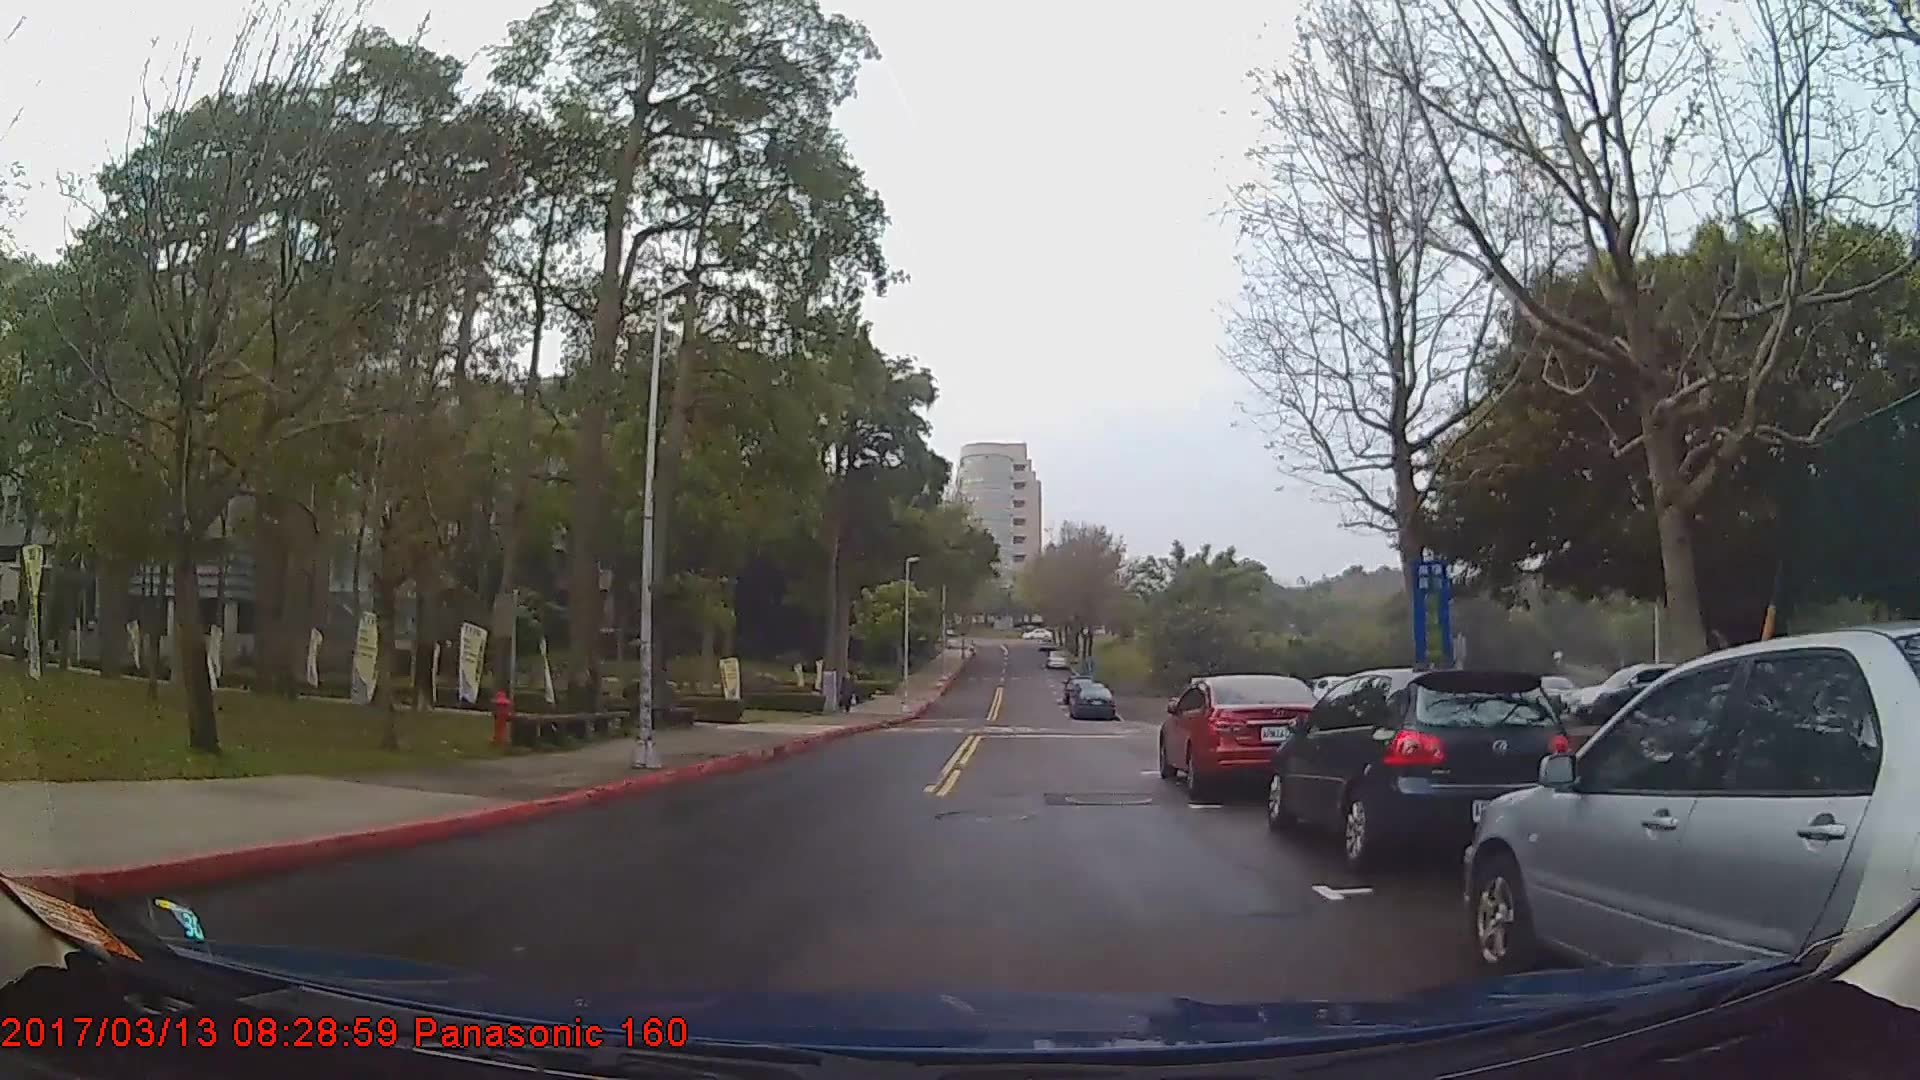vehicle: (1458, 622, 1920, 1022), (1266, 673, 1568, 868), (1156, 678, 1331, 803), (1571, 662, 1716, 727), (1068, 684, 1118, 723)
